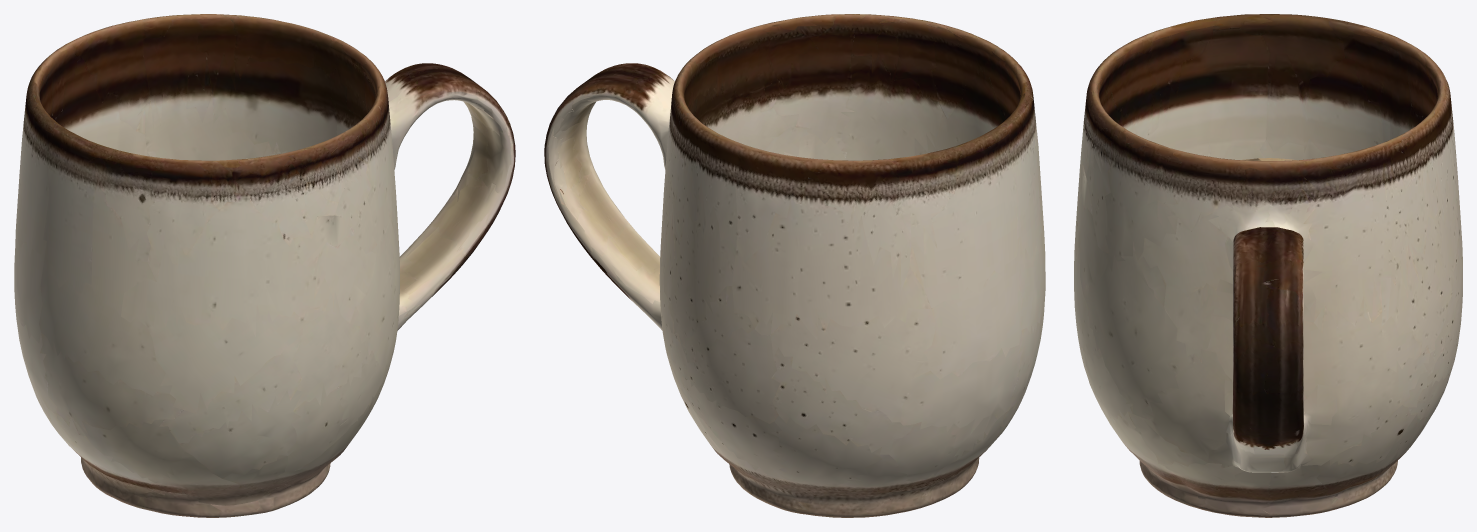
File: kitchen-mug-09.glb
3 views of the same model, side by side, from view 1: azimuth 30°, elevation 25°; view 2: azimuth 150°, elevation 25°; view 3: azimuth 270°, elevation 25° (orthographic).
Size of the model in its own units: 1.9 by 1.48 by 1.37.
Materials: 1 (1 with a texture image).
